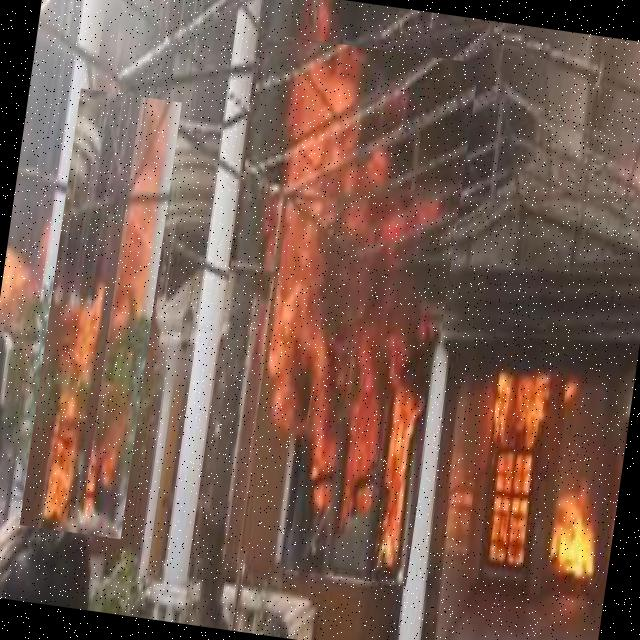fire: (190, 34, 479, 586), (20, 88, 182, 540), (469, 333, 637, 609)
